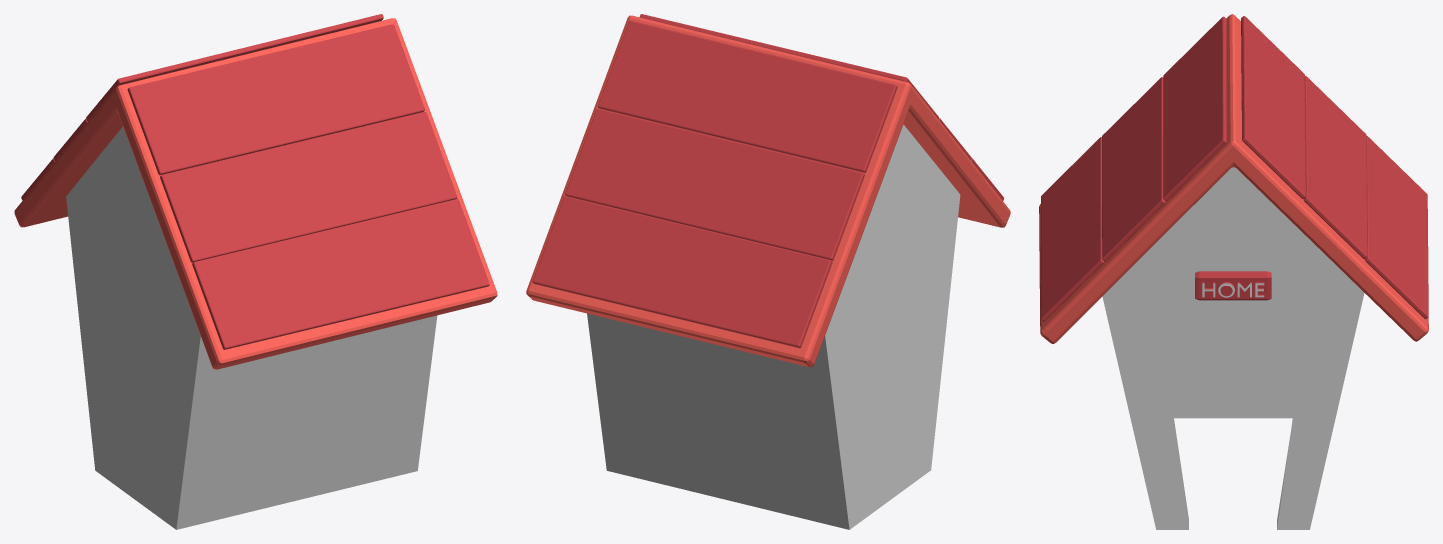
File: DOGHOUSE.fbx
3 renders of one model, left to right at view 1: azimuth 30°, elevation 25°; view 2: azimuth 150°, elevation 25°; view 3: azimuth 270°, elevation 25°, orthographic. The views are drawn at different scales.
Parts seen in each view (by area): view 1: Cube.001, Cube; view 2: Cube.001, Cube; view 3: Cube.001, Cube.
Part boxes in pixels (x1,y1,x2,y2): Cube.001: (14, 14, 497, 369); Cube: (66, 126, 437, 529); Cube.001: (526, 14, 1010, 367); Cube: (587, 124, 960, 529); Cube.001: (1039, 14, 1428, 343); Cube: (1102, 167, 1364, 529).
Bounding box in the file's own units: 234 × 332 × 295.
